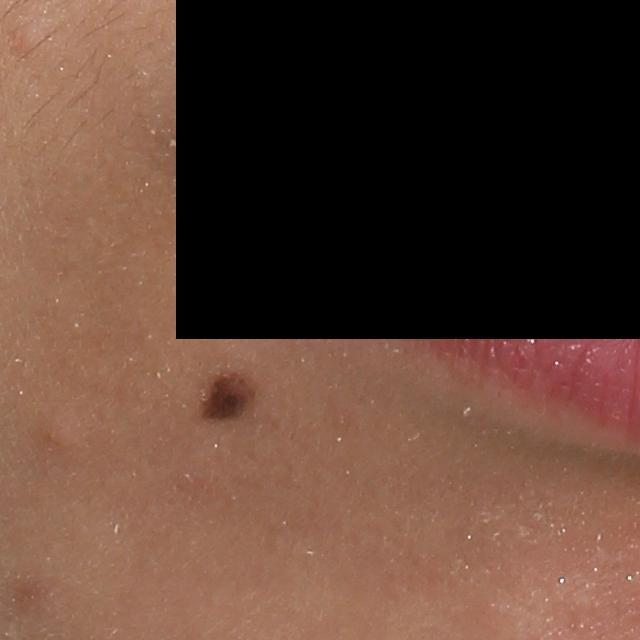comedo: (1, 16, 49, 60), (40, 411, 80, 454)
nevus: (194, 362, 267, 432)
